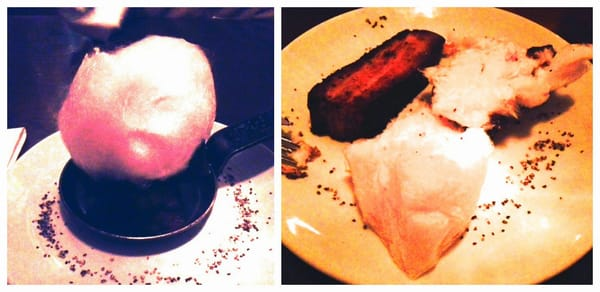steak: (58, 35, 218, 185)
